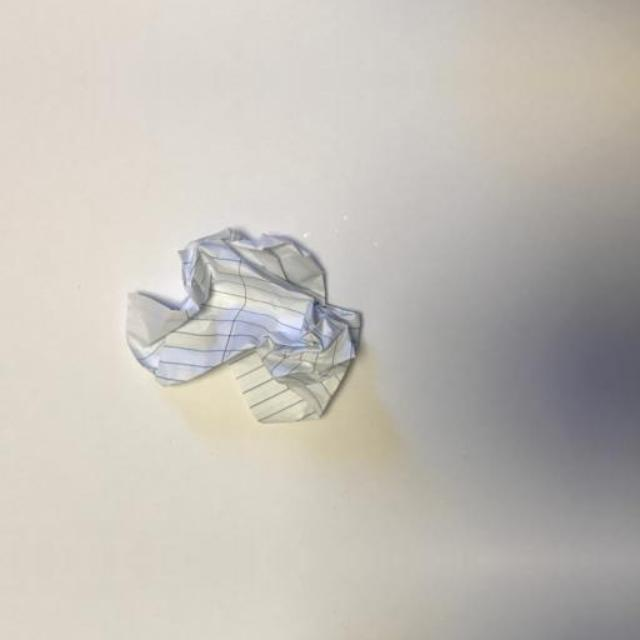paper: (74, 214, 434, 450)
